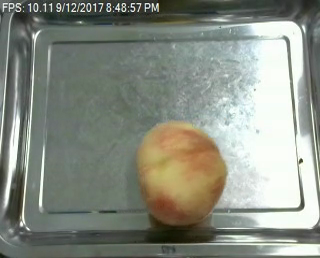Peach: (137, 121, 226, 225)
